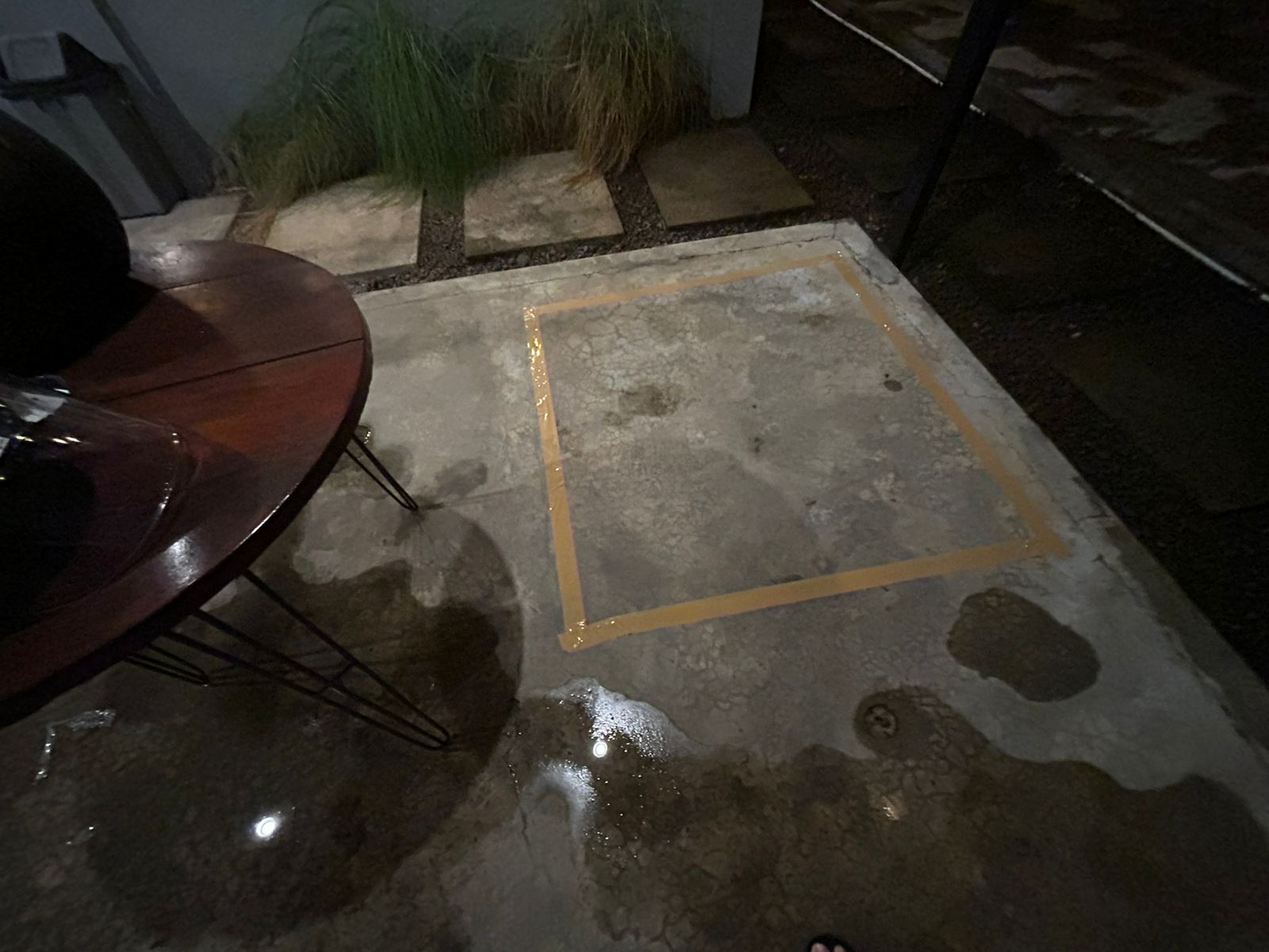floor marking: (523, 252, 1064, 651)
